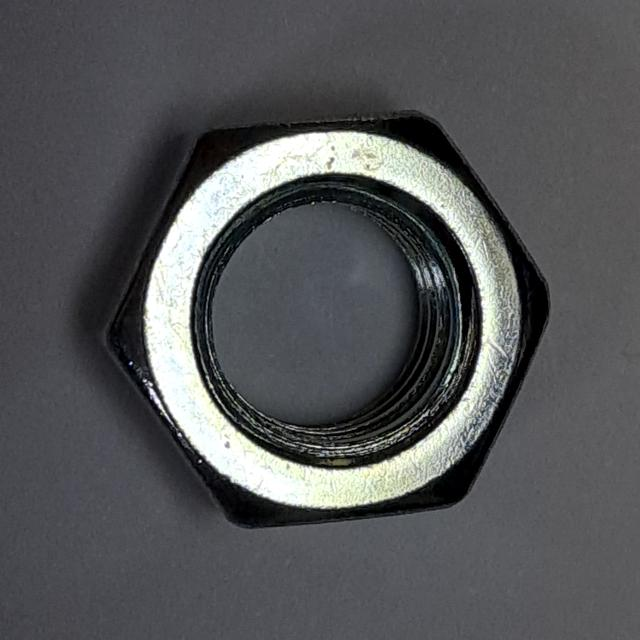Excellent: (84, 89, 566, 542)
